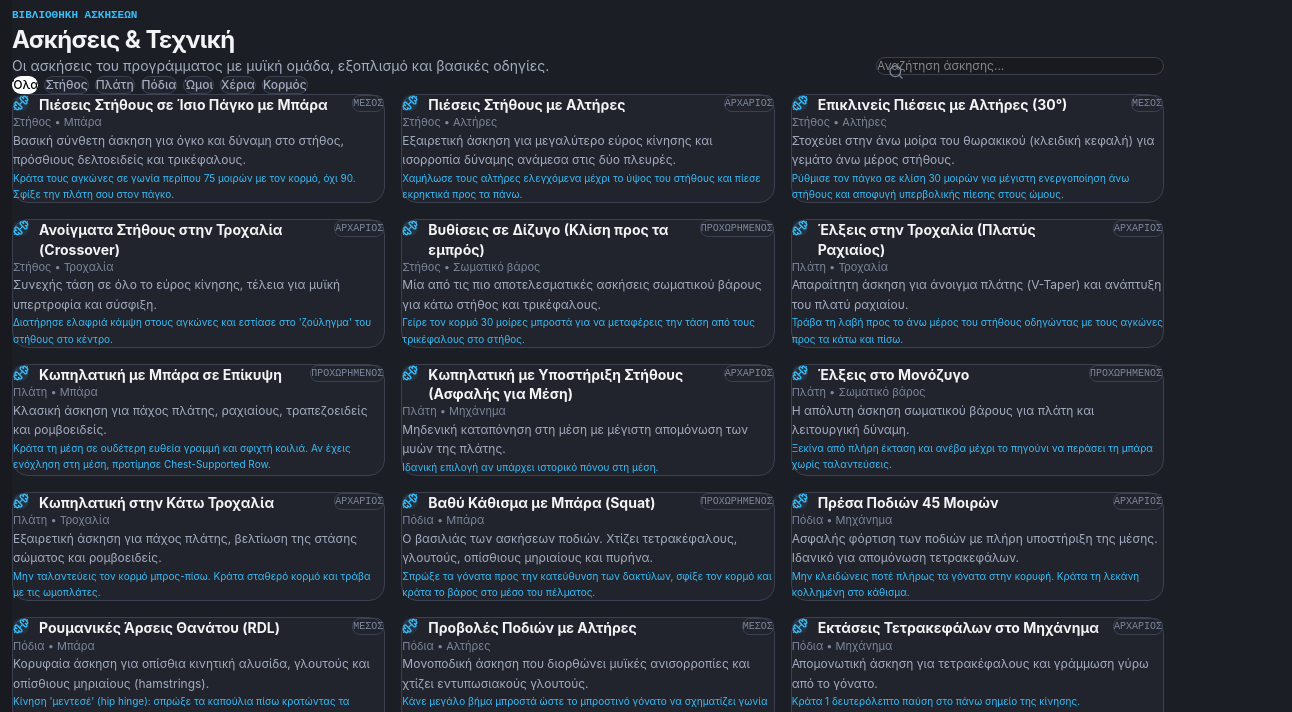
Exercises (the public exercise library) › filters by muscle group and marks the active filter accessibly
Click the button "Στήθος": click(66, 85) x1=44 y1=76 x2=89 y2=94
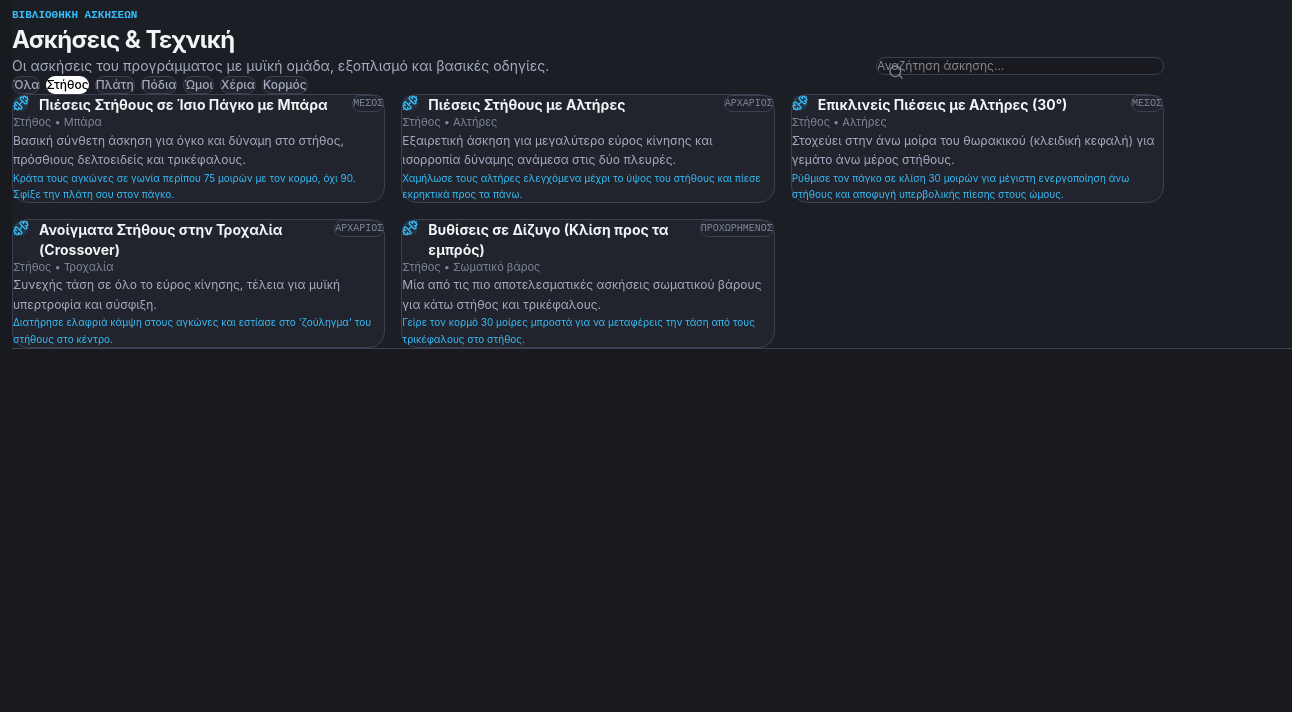
Result: the heading "Έλξεις στην Τροχαλία (Πλατύς Ραχιαίος)" is gone
